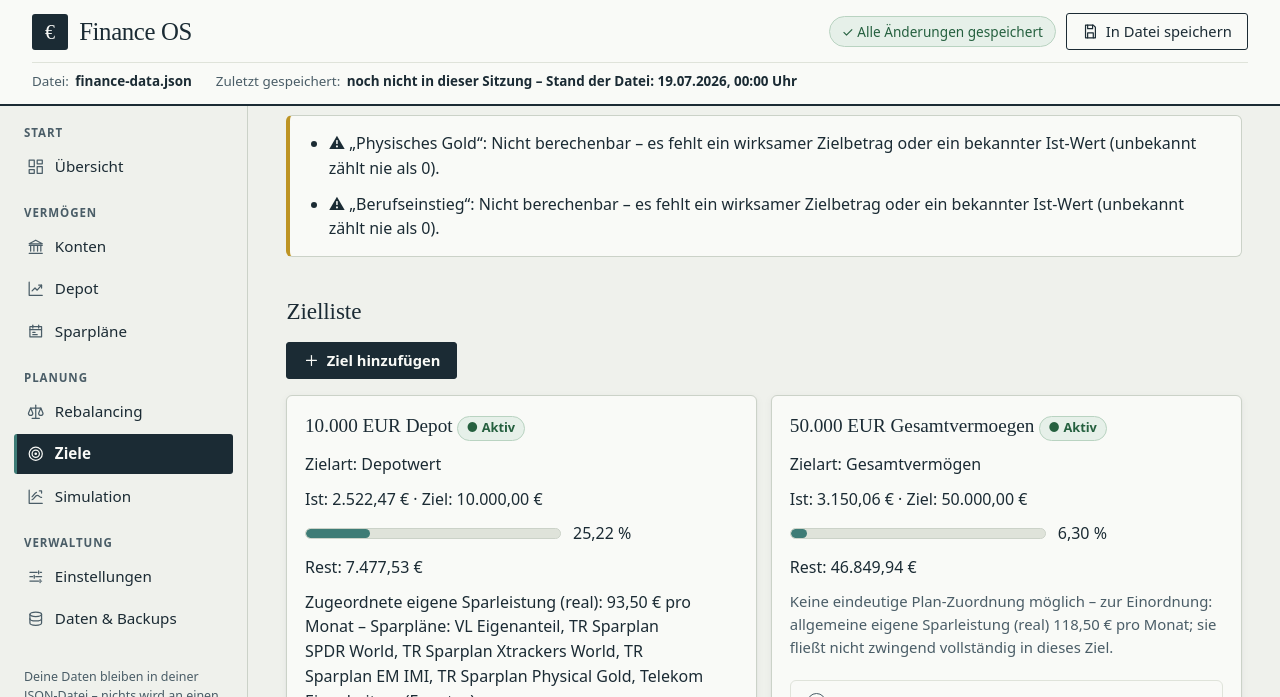
GoalsPage – Formulare › Anlegen eines Kontostand-Ziels mit deutschem Betrag „2.000“: Karte erscheint, Dirty-State gesetzt
(page scrolled)
Click the button "Ziel hinzufügen" at (372, 360), box [286,342,457,379]
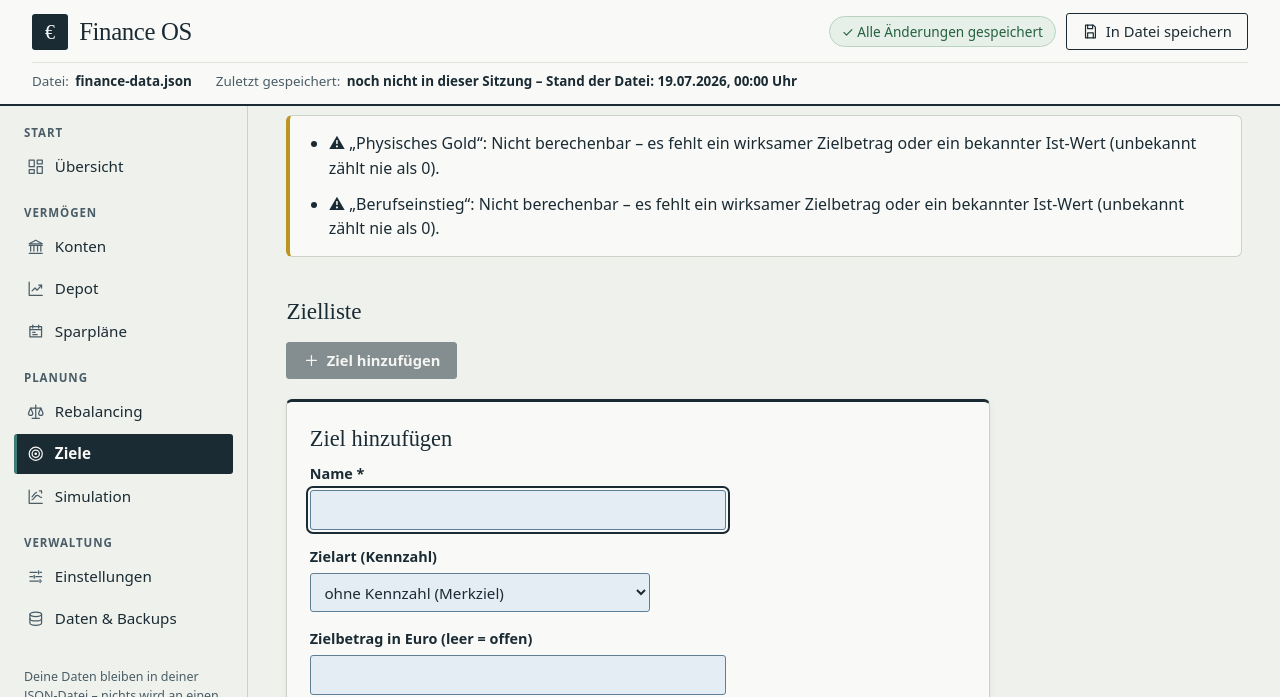
Type "VW Puffer" into the field labelled "Name *" at (518, 510), box [310,490,726,530]
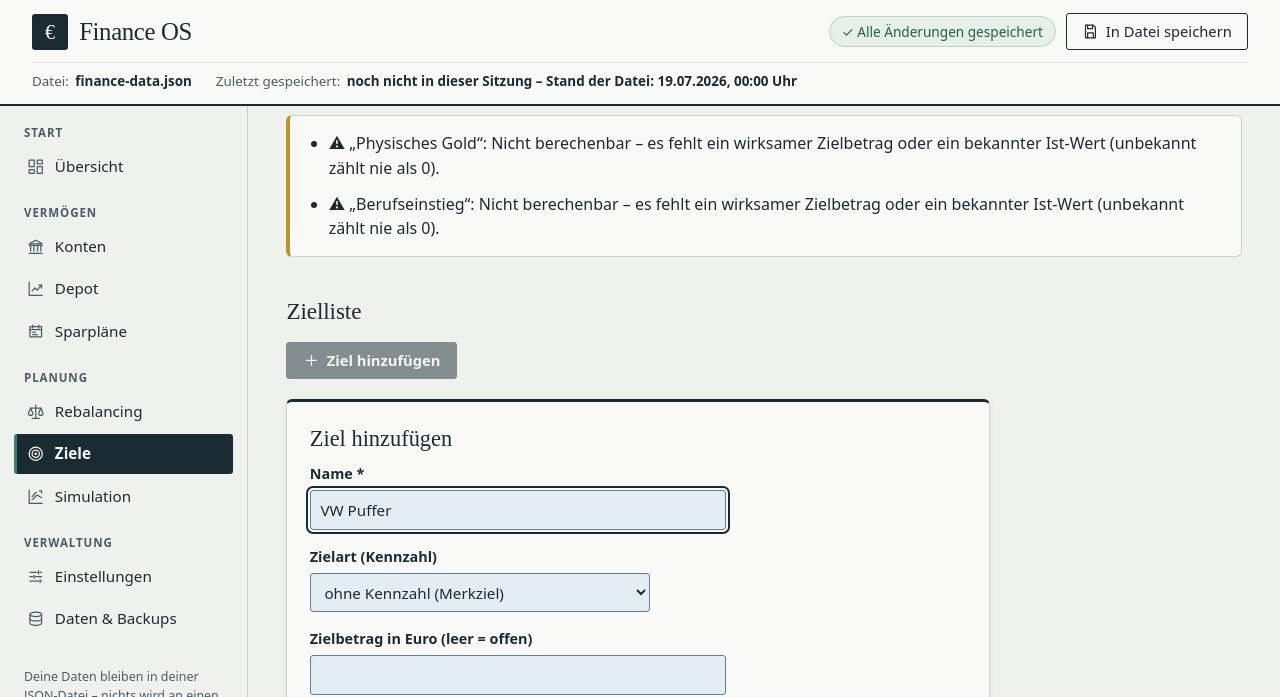
Select "Kontostand eines Kontos" in the dropdown labelled "Zielart (Kennzahl)" at (480, 593), box [310,573,650,612]
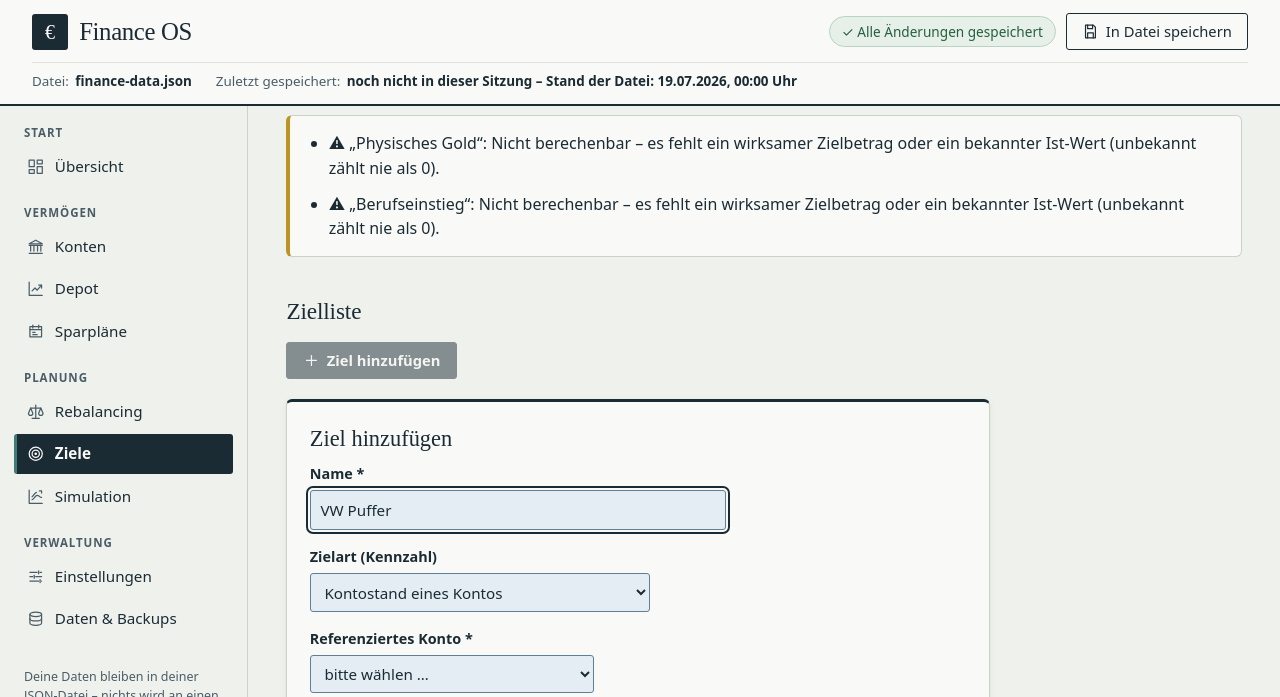
Select "Volkswagen Bank Tagesgeld" in the dropdown labelled "Referenziertes Konto *" at (452, 674), box [310,655,594,693]
(page scrolled)
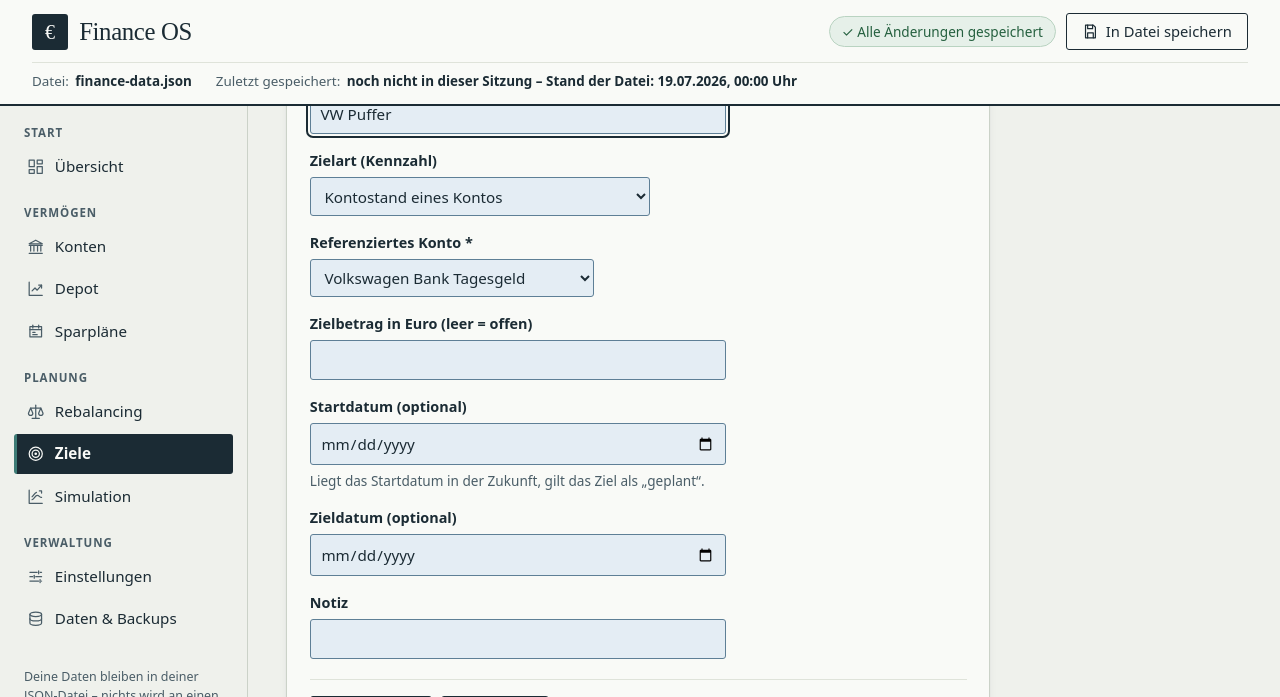
Type "2.000" into the field labelled "Zielbetrag in Euro (leer = offen)" at (518, 360), box [310,340,726,380]
(page scrolled)
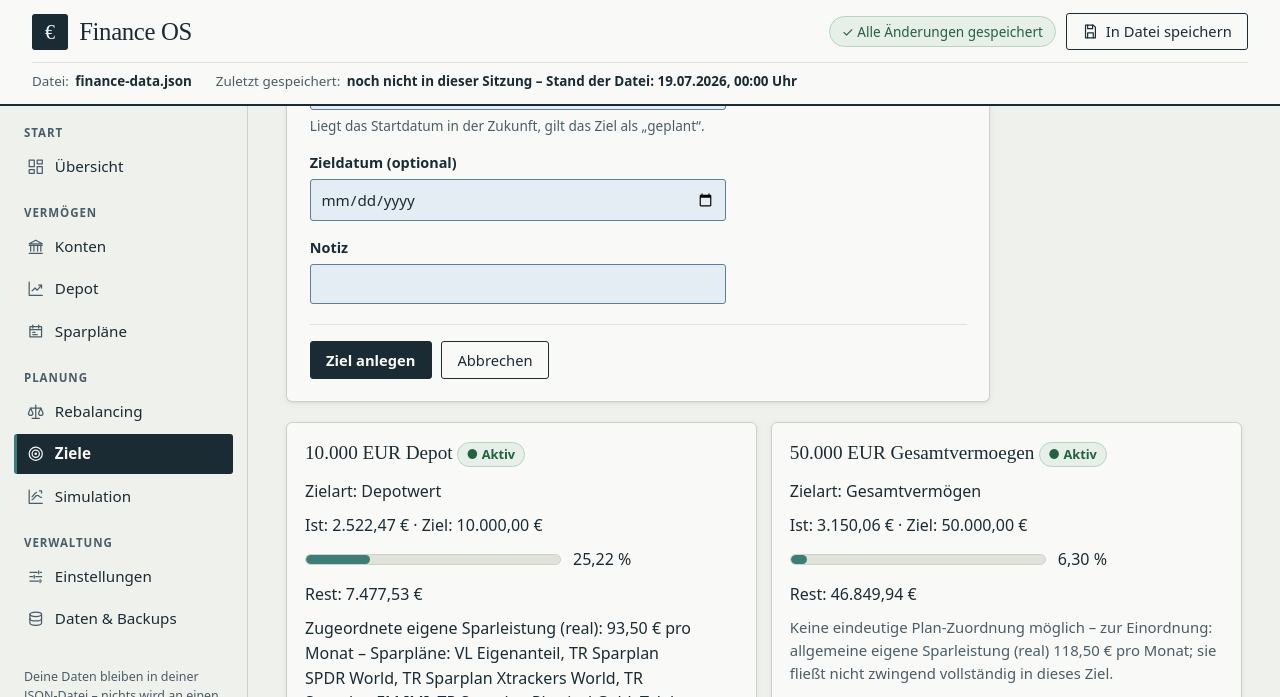
Click the button "Ziel anlegen" at (371, 360), box [310,341,432,379]
(page scrolled)
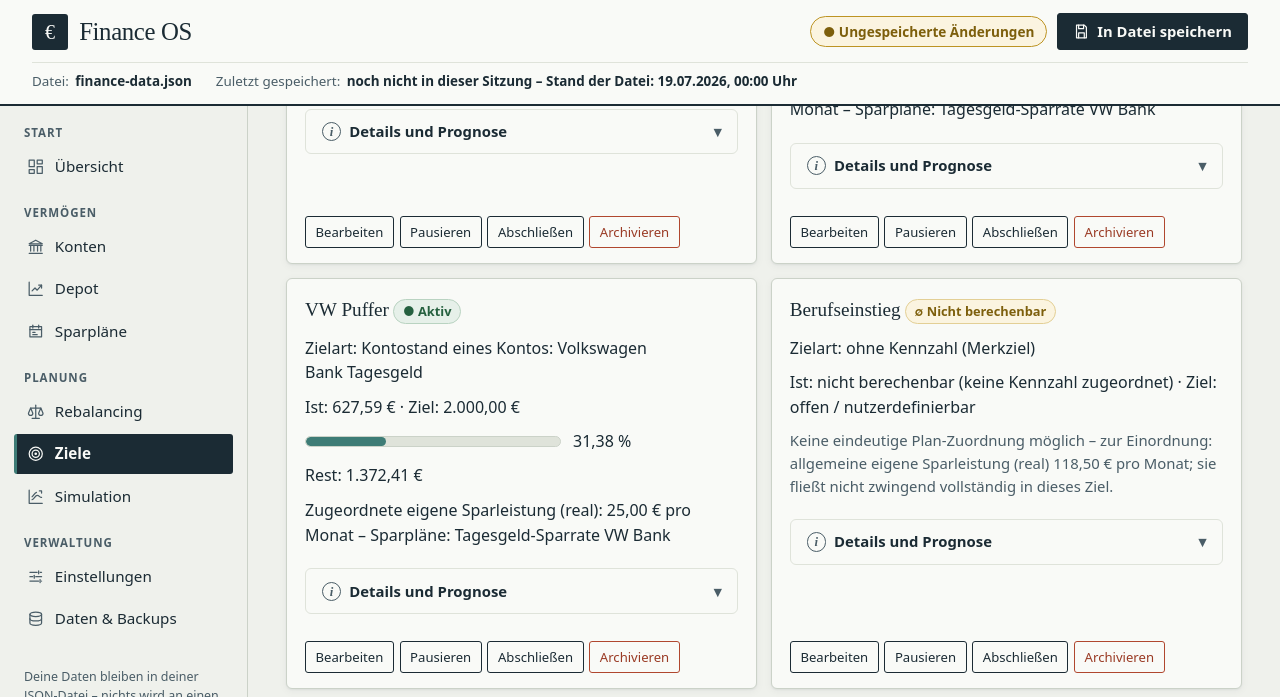
Now the text "Zielart: Kontostand eines Kontos: Volkswagen Bank Tagesgeld" is shown, box [305,337,647,383]
